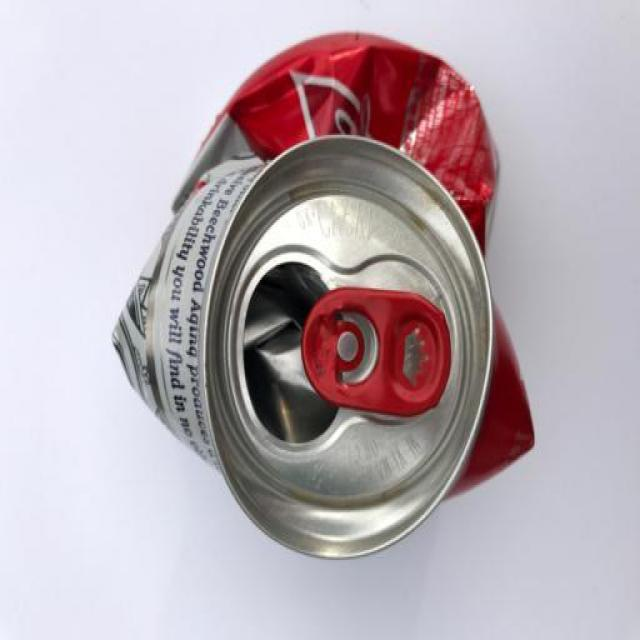metel: (85, 21, 581, 556)
